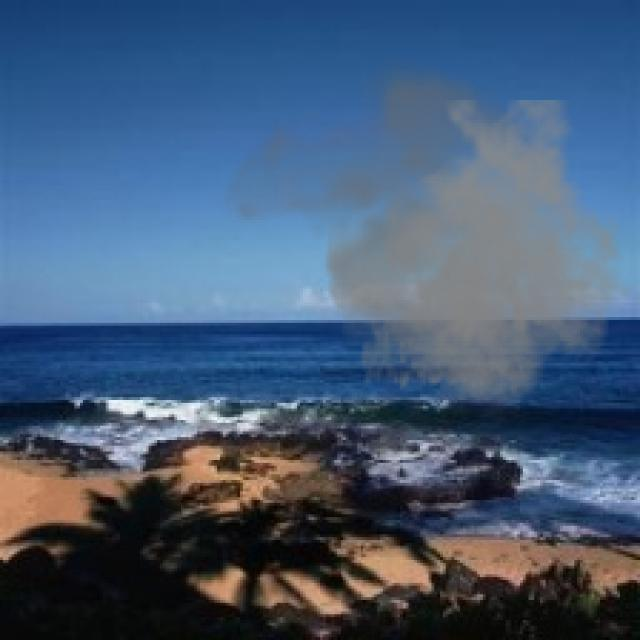smoke: (217, 54, 632, 429)
